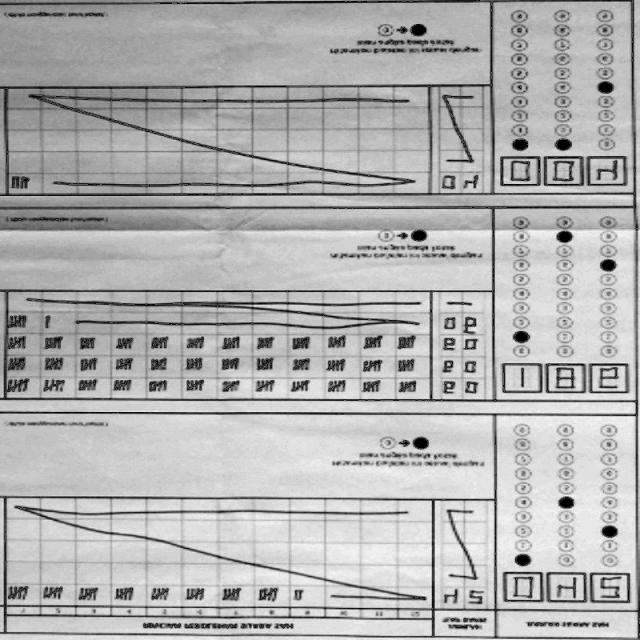Suara: (495, 568, 634, 608), (496, 362, 634, 402), (492, 152, 630, 192)
